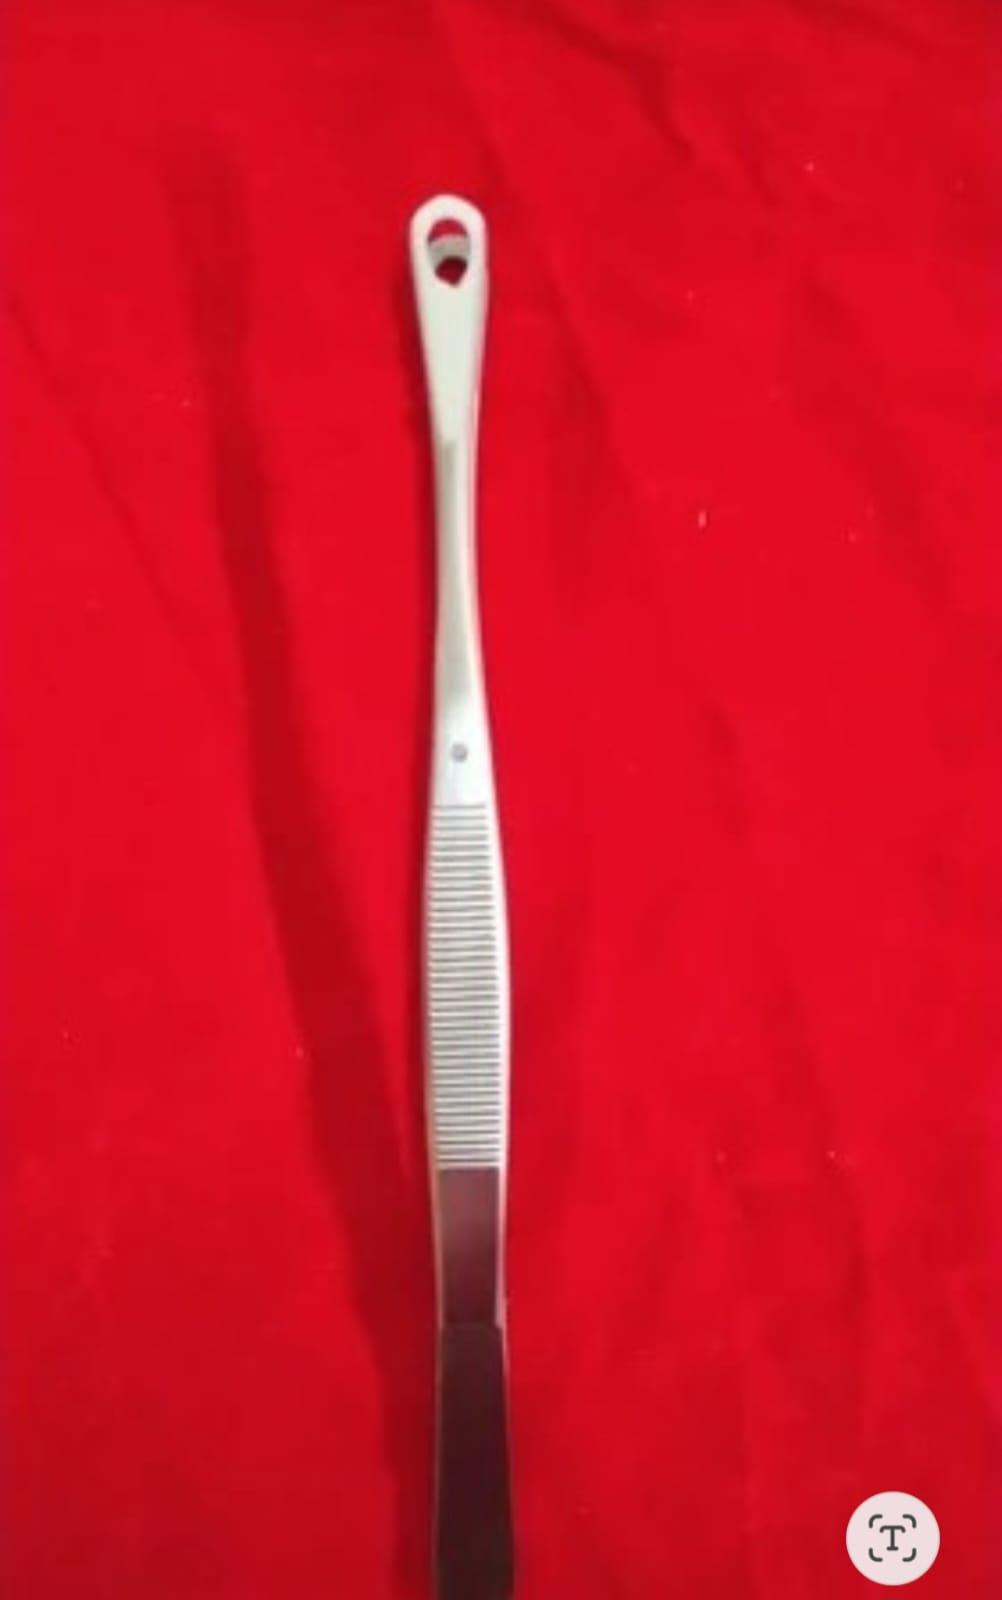Eye Intestinal Forceps: (378, 180, 562, 1595)
